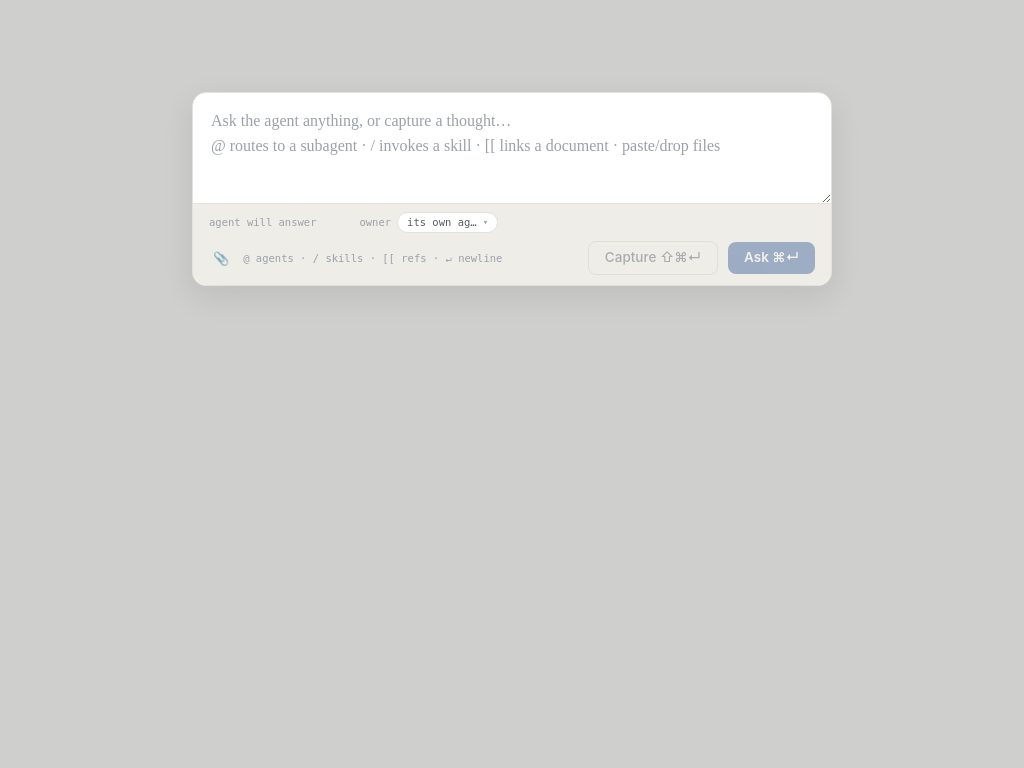
Scenario: ComposeOverlay › the autocompletes › opens the kit's menu on `@`, listing agent documents
Step 1. Replace the text in the text box named "Ask the agent, or capture a thought" with "@res" → (512,148), box [193, 93, 831, 203]
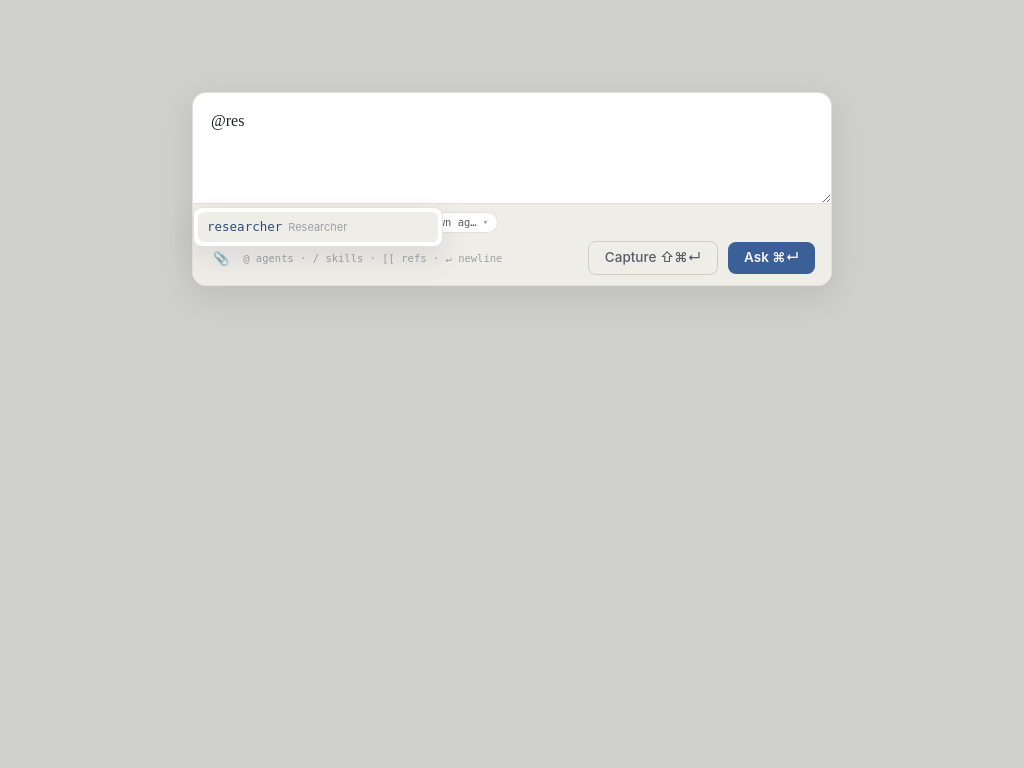
Expected: the list with class "ac-menu" is shown, [193, 207, 443, 247]
